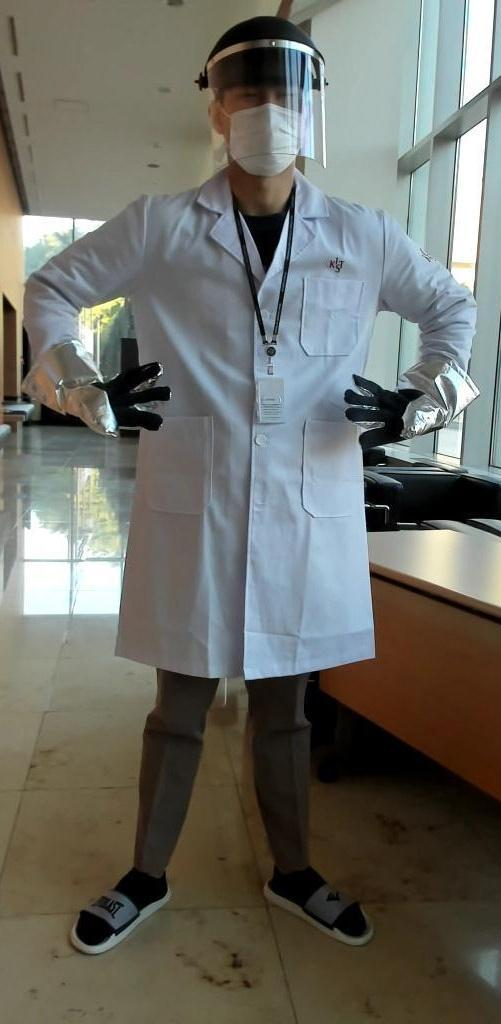lab_coat: (134, 194, 366, 666)
